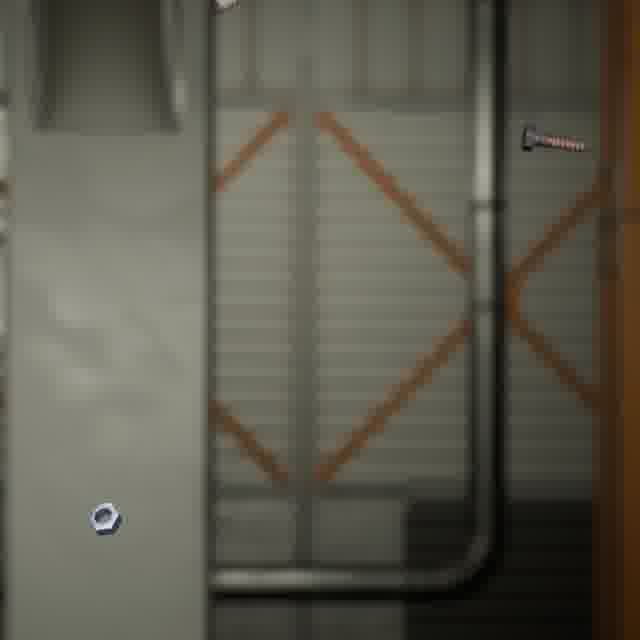bolt: (516, 119, 594, 157)
nut: (82, 498, 127, 540)
